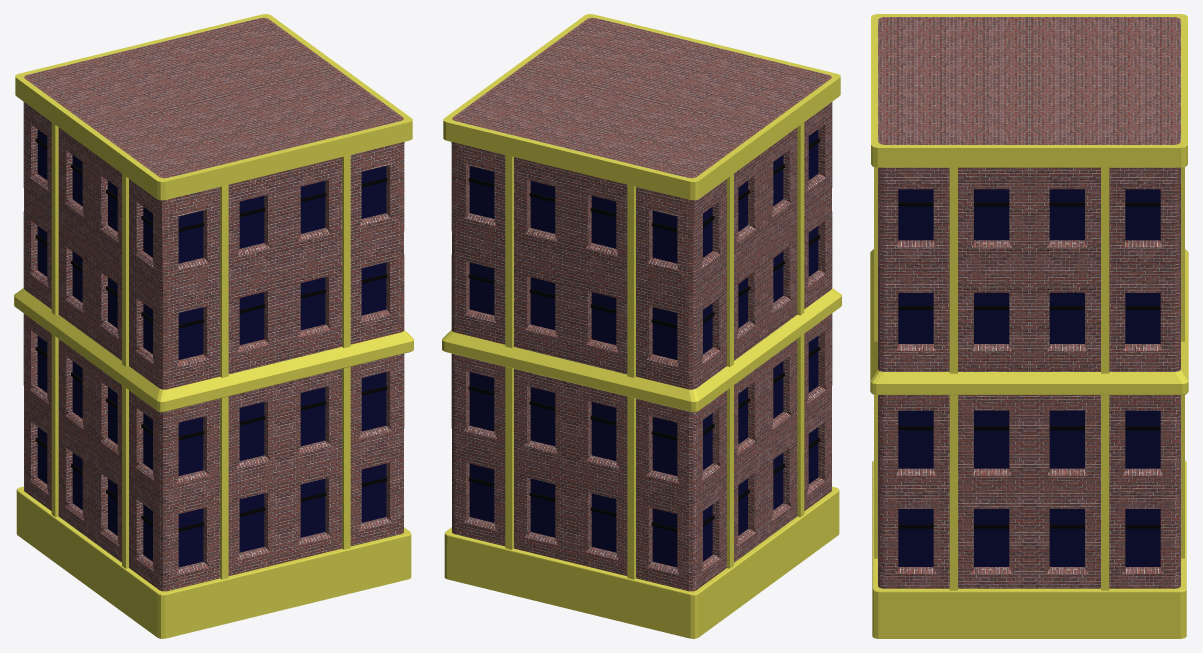
Rendered from building1.fbx.
3 views of the same model, side by side, from view 1: azimuth 30°, elevation 25°; view 2: azimuth 150°, elevation 25°; view 3: azimuth 270°, elevation 25° (orthographic). The views are drawn at different scales.
Visible parts, largest first — view 1: Cube.001; view 2: Cube.001; view 3: Cube.001.
Boxes of the visible parts, <box> form: Cube.001: <box>14,14,413,638</box>; Cube.001: <box>442,14,841,638</box>; Cube.001: <box>870,14,1188,638</box>.
Bounding box in the file's own units: 392 × 668 × 392.
